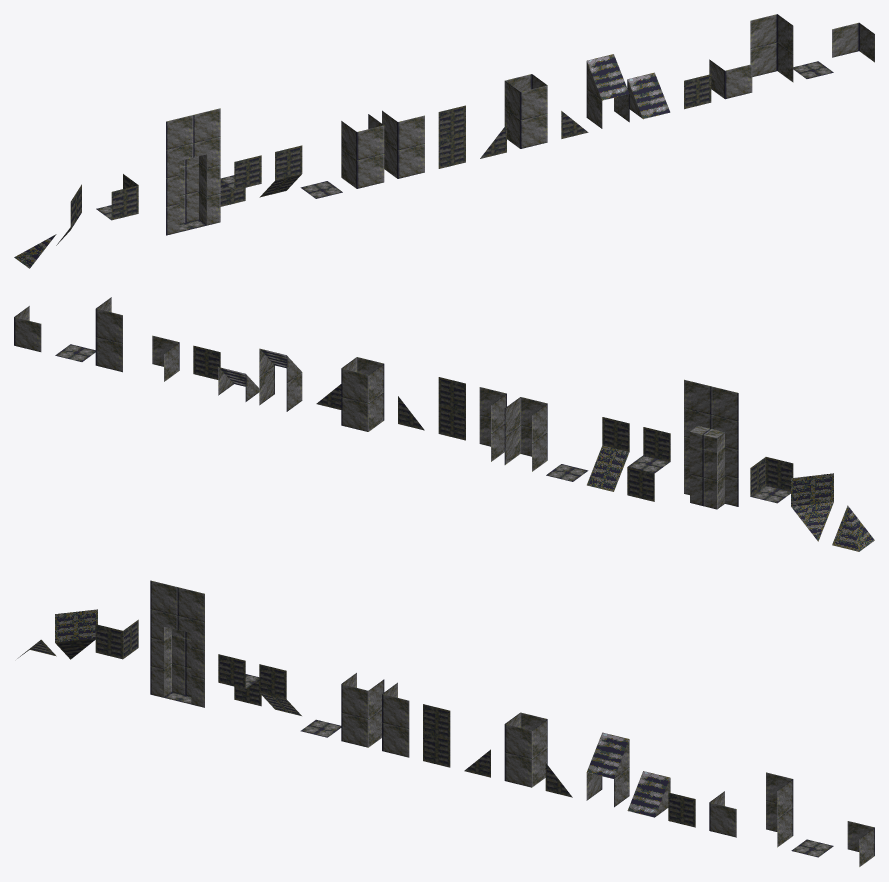
File: handsTileSet4.glb
3 views of the same model, one above another, from view 1: azimuth 30°, elevation 25°; view 2: azimuth 150°, elevation 25°; view 3: azimuth 330°, elevation 25° (orthographic).
Visible parts, largest first — view 1: door2-col.001, wall2-col.001, door2-col, wall2-col.005, wall2-col.009, wall2-col.002, wall2-col.003, wall2-col.008, wall2-col.004, floor-col.004, wall2-col.007, wall2-col.010 (+3 smaller); view 2: door2-col, wall2-col.001, door2-col.001, wall2-col.005, wall1-col, floor-col.004, wall1-col.002, wall2-col.009, wall2-col.003, floor-col.001, wall2-col.002, wall2-col.008 (+5 smaller); view 3: door2-col, wall2-col.001, door2-col.001, wall2-col.005, wall2-col.003, wall2-col.009, wall2-col.002, wall1-col, wall2-col.008, wall2-col.004, floor-col.004, floor-col.001 (+4 smaller).
Part boxes in pixels (x1,y1,x2,y2): door2-col.001: [185, 108, 220, 228]; wall2-col.001: [504, 74, 547, 148]; door2-col: [166, 115, 193, 235]; wall2-col.005: [341, 114, 384, 188]; wall2-col.009: [750, 14, 793, 82]; wall2-col.002: [382, 110, 424, 178]; wall2-col.003: [586, 54, 629, 128]; wall2-col.008: [438, 105, 465, 168]; wall2-col.004: [627, 72, 670, 119]; floor-col.004: [220, 155, 261, 206]; wall2-col.007: [709, 59, 752, 99]; wall2-col.010: [832, 22, 874, 62]; door2-col: [703, 386, 738, 509]; wall2-col.001: [341, 357, 384, 431]; door2-col.001: [684, 379, 711, 506]; wall2-col.005: [504, 397, 547, 471]; wall1-col: [791, 473, 833, 541]; floor-col.004: [627, 427, 670, 501]; wall1-col.002: [587, 417, 629, 491]; wall2-col.009: [95, 297, 122, 372]; wall2-col.003: [259, 348, 302, 411]; floor-col.001: [750, 457, 793, 503]; wall2-col.002: [479, 387, 506, 461]; wall2-col.008: [438, 377, 465, 440]; door2-col: [150, 580, 185, 700]; wall2-col.001: [504, 712, 547, 787]; door2-col.001: [177, 587, 204, 707]; wall2-col.005: [341, 673, 384, 747]; wall2-col.003: [586, 732, 629, 807]; wall2-col.009: [766, 772, 793, 847]; wall2-col.002: [382, 682, 409, 757]; wall1-col: [55, 609, 97, 659]; wall2-col.008: [423, 704, 450, 767]; wall2-col.004: [627, 771, 670, 817]; floor-col.004: [218, 654, 261, 706]; floor-col.001: [95, 619, 138, 659].
Size of the model in its own units: 62 by 8 by 2.
Materials: 1 (1 with a texture image).
